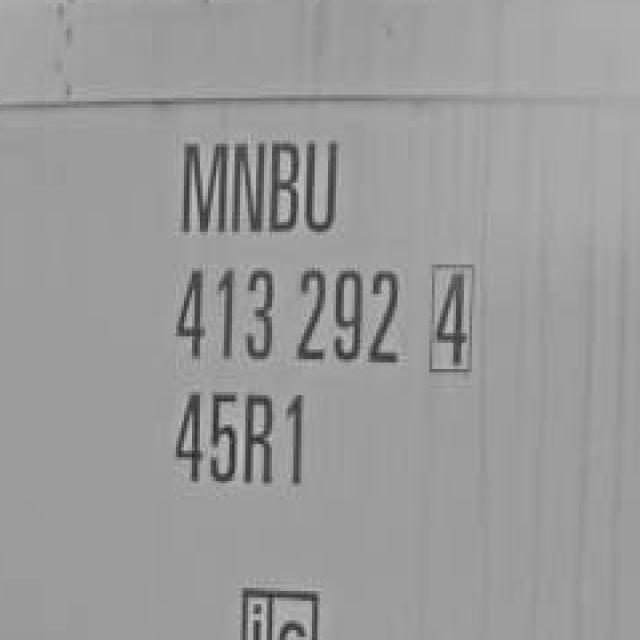dv: (424, 256, 482, 382)
owner: (153, 121, 354, 239)
serial: (158, 257, 412, 373)
size: (153, 382, 321, 497)
